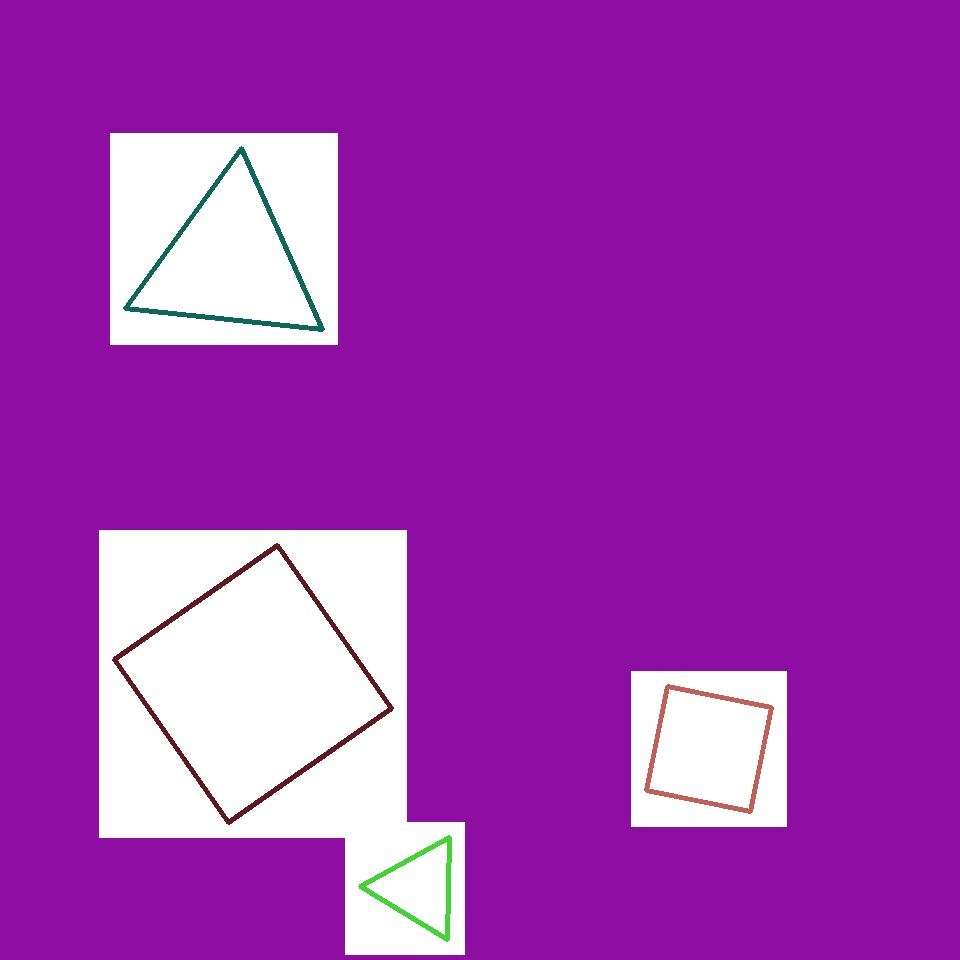circle: (635, 306, 873, 532), (132, 171, 328, 352), (374, 837, 464, 939)
square: (118, 532, 438, 852), (115, 546, 392, 822), (576, 445, 732, 602), (128, 304, 270, 448), (646, 686, 772, 811)
triangle: (458, 216, 800, 558), (384, 155, 714, 486)
